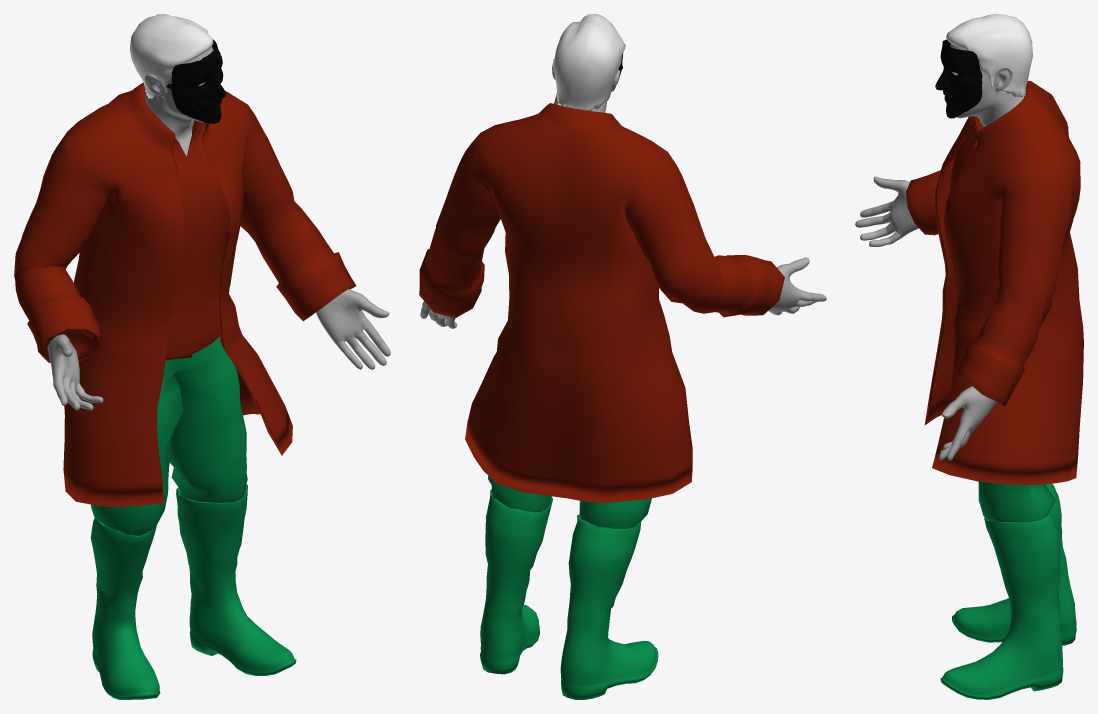
File: Unity_Gpp_Talking.fbx
The picture shows the model from 3 angles, left to right: view 1: azimuth 30°, elevation 25°; view 2: azimuth 150°, elevation 25°; view 3: azimuth 270°, elevation 25°; orthographic projection. The views are drawn at different scales.
Visible parts, largest first — view 1: GPP3; view 2: GPP3; view 3: GPP3.
Boxes of the visible parts, left/top/right/bottom form: GPP3: left=14, top=14, right=390, bottom=699; GPP3: left=419, top=14, right=826, bottom=699; GPP3: left=855, top=14, right=1083, bottom=699.
Size of the model in its own units: 105 by 178 by 58.13.
